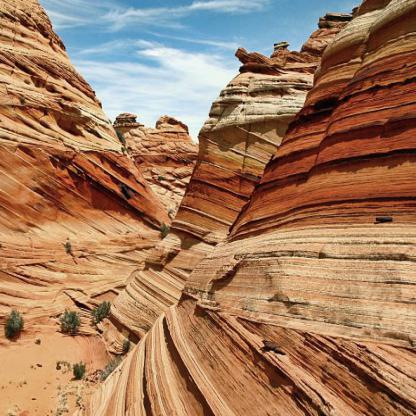Sedimentary_Sandstone: (334, 214, 415, 330), (334, 96, 415, 200), (245, 309, 326, 408), (335, 0, 415, 85), (334, 344, 415, 415), (55, 98, 112, 195), (242, 221, 320, 291), (240, 136, 310, 204), (160, 319, 219, 399), (240, 52, 302, 115), (206, 121, 236, 236), (0, 98, 38, 188), (0, 0, 37, 86), (159, 119, 193, 187)
